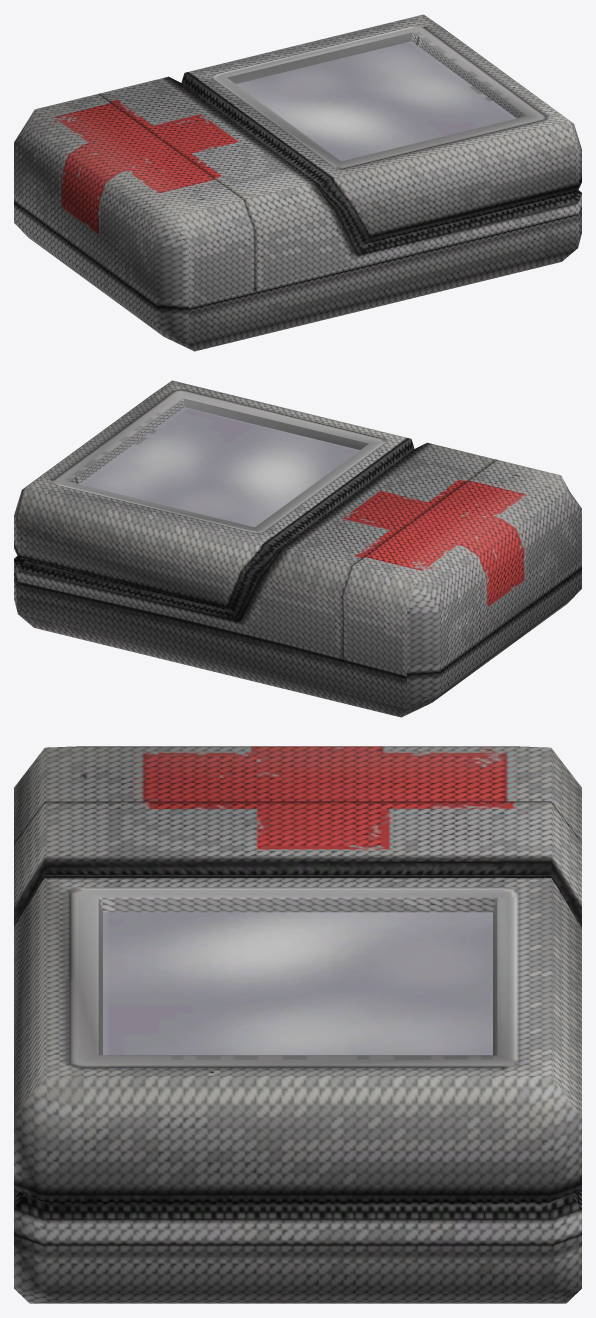
Rendered from medikit_s.glb.
The picture shows the model from 3 angles, top to bottom: view 1: azimuth 30°, elevation 25°; view 2: azimuth 150°, elevation 25°; view 3: azimuth 270°, elevation 25°; orthographic projection. The views are drawn at different scales.
Parts seen in each view (by area): view 1: Box02; view 2: Box02; view 3: Box02.
Part boxes in pixels (x1,y1,x2,y2): Box02: (14, 14, 581, 351); Box02: (14, 380, 581, 717); Box02: (14, 746, 581, 1303).
Size of the model in its own units: 22.79 by 6.94 by 15.2.
1 material, 1 textured.
